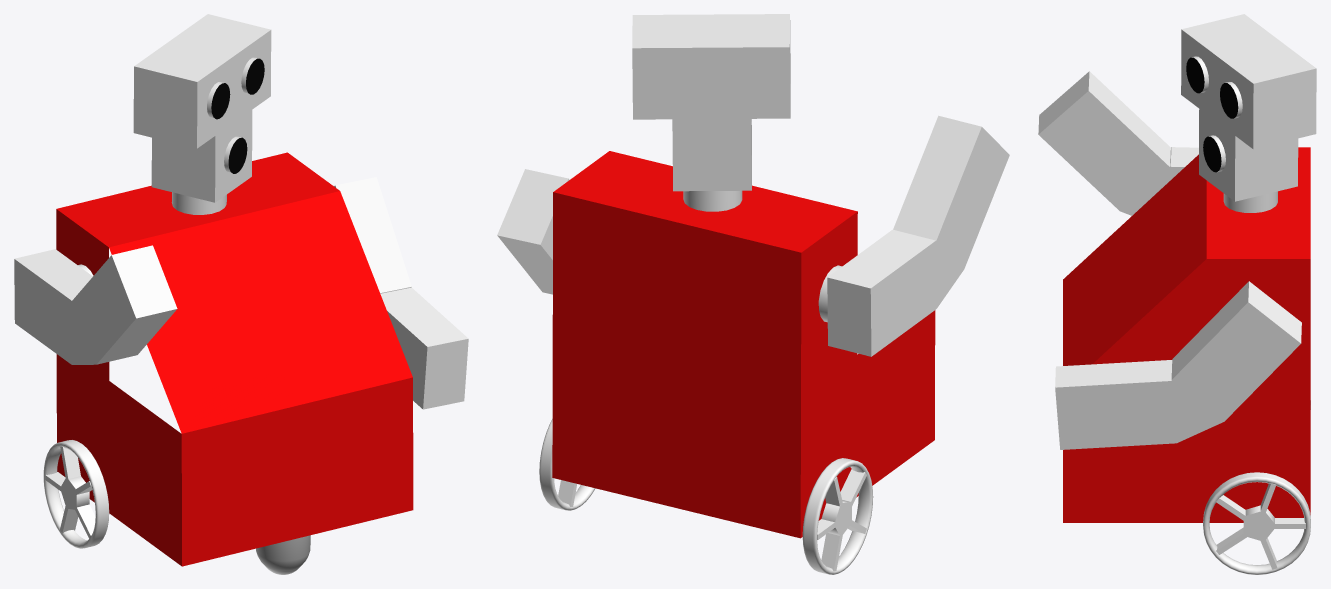
File: Robot.glb
3 renders of one model, left to right at view 1: azimuth 30°, elevation 25°; view 2: azimuth 150°, elevation 25°; view 3: azimuth 270°, elevation 25°, orthographic. The views are drawn at different scales.
Visible parts, largest first — view 1: Body, Head, Left Arm, Right Arm, Cylinder005, Sphere002, Cylinder006; view 2: Body, Head, Left Arm, Right Arm, Cylinder005, Cylinder003, Cylinder006; view 3: Body, Right Arm, Head, Left Arm, Cylinder003, Cylinder004.
Part boxes in pixels (box(x1,y1,x2,y2)): Body: box(56, 152, 413, 566); Head: box(133, 14, 271, 214); Left Arm: box(14, 245, 177, 364); Right Arm: box(334, 177, 468, 409); Cylinder005: box(43, 440, 109, 548); Sphere002: box(256, 535, 310, 570); Cylinder006: box(60, 476, 89, 509); Body: box(552, 151, 935, 538); Head: box(632, 14, 790, 211); Left Arm: box(818, 115, 1009, 356); Right Arm: box(497, 169, 569, 294); Cylinder005: box(802, 458, 873, 574); Cylinder003: box(539, 419, 595, 510); Cylinder006: box(821, 500, 851, 535); Body: box(1063, 147, 1310, 522); Right Arm: box(1055, 281, 1301, 449); Head: box(1181, 14, 1316, 212); Left Arm: box(1038, 71, 1198, 215); Cylinder003: box(1203, 472, 1310, 574); Cylinder004: box(1243, 505, 1276, 541).
Size of the model in its own units: 5.53 by 7.17 by 3.89.
